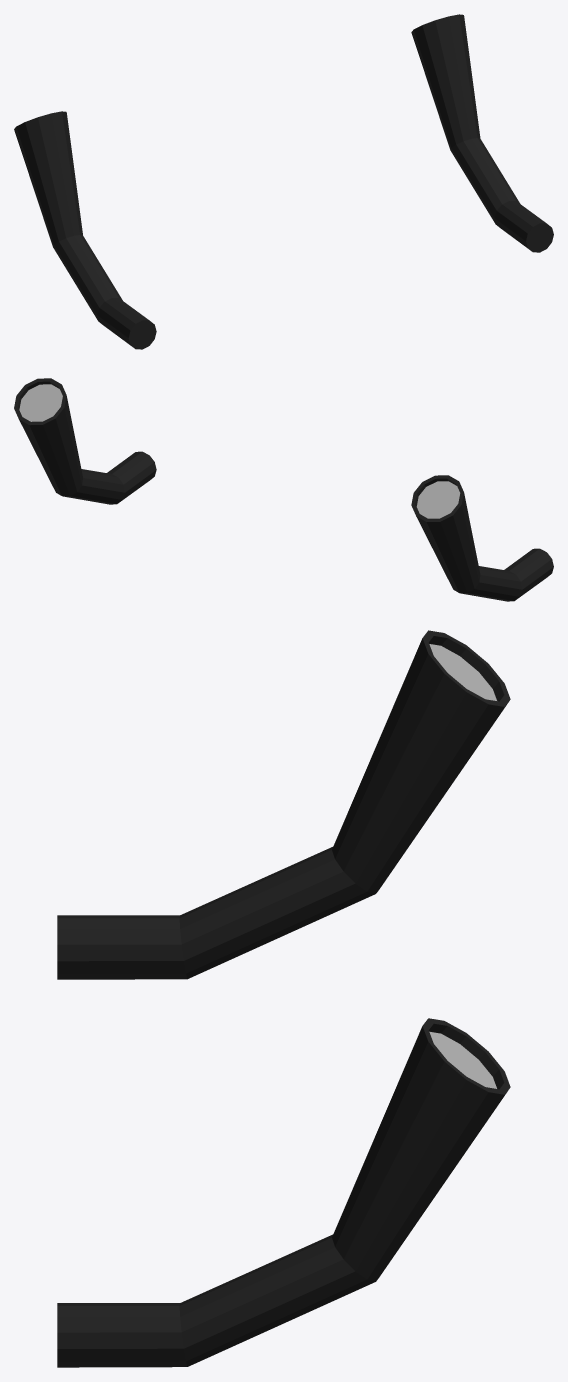
The model's file is exhaust1.glb.
The picture shows the model from 3 angles, top to bottom: view 1: azimuth 30°, elevation 25°; view 2: azimuth 150°, elevation 25°; view 3: azimuth 270°, elevation 25°; orthographic projection. The views are drawn at different scales.
Visible parts, largest first — view 1: exhaust1; view 2: exhaust1; view 3: exhaust1.
Part boxes in pixels (x1,y1,x2,y2): exhaust1: [14, 14, 553, 349]; exhaust1: [14, 378, 553, 601]; exhaust1: [57, 630, 510, 1367].
Size of the model in its own units: 2.54 by 0.9247 by 1.12.
Materials: 1 (1 with a texture image).
